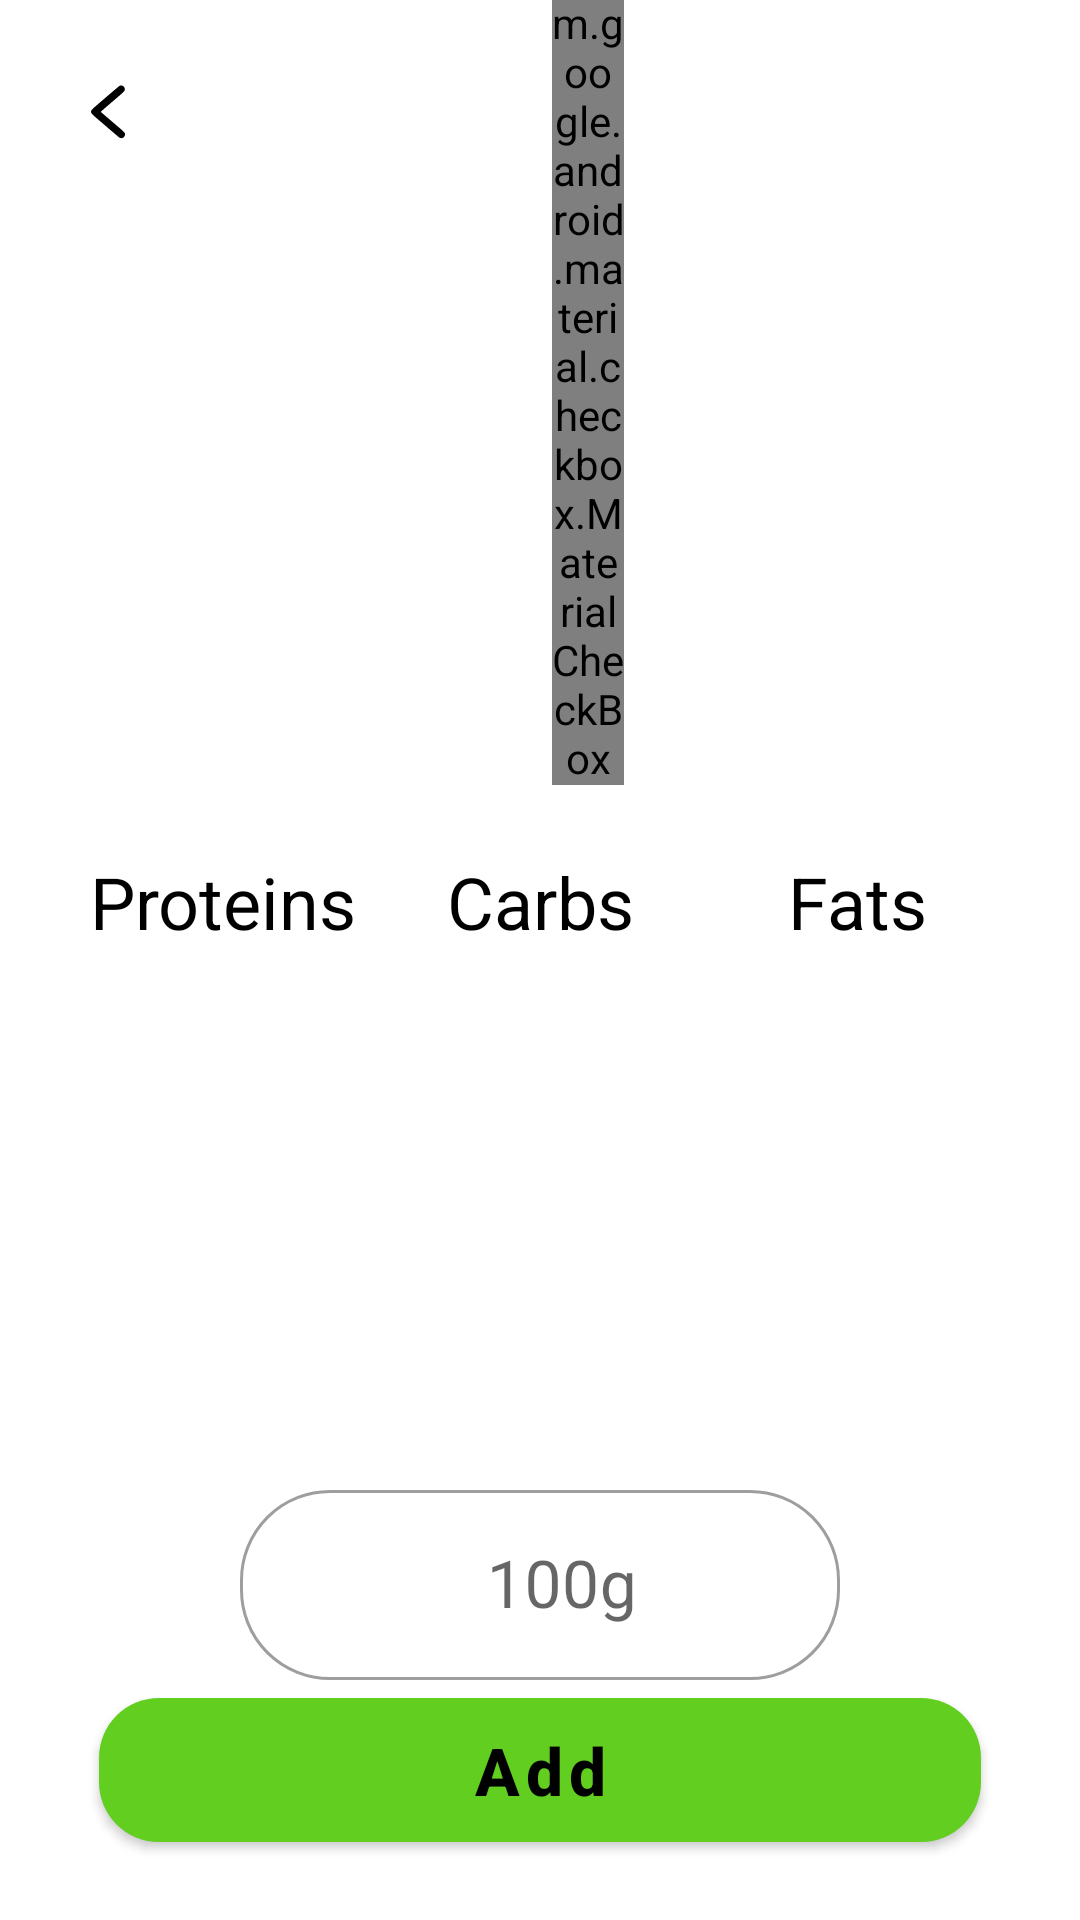

Point at icon controls on the screen. Image size 1080 x 1920, points as (x=x, y=y).
arrow back: (x=108, y=112)
